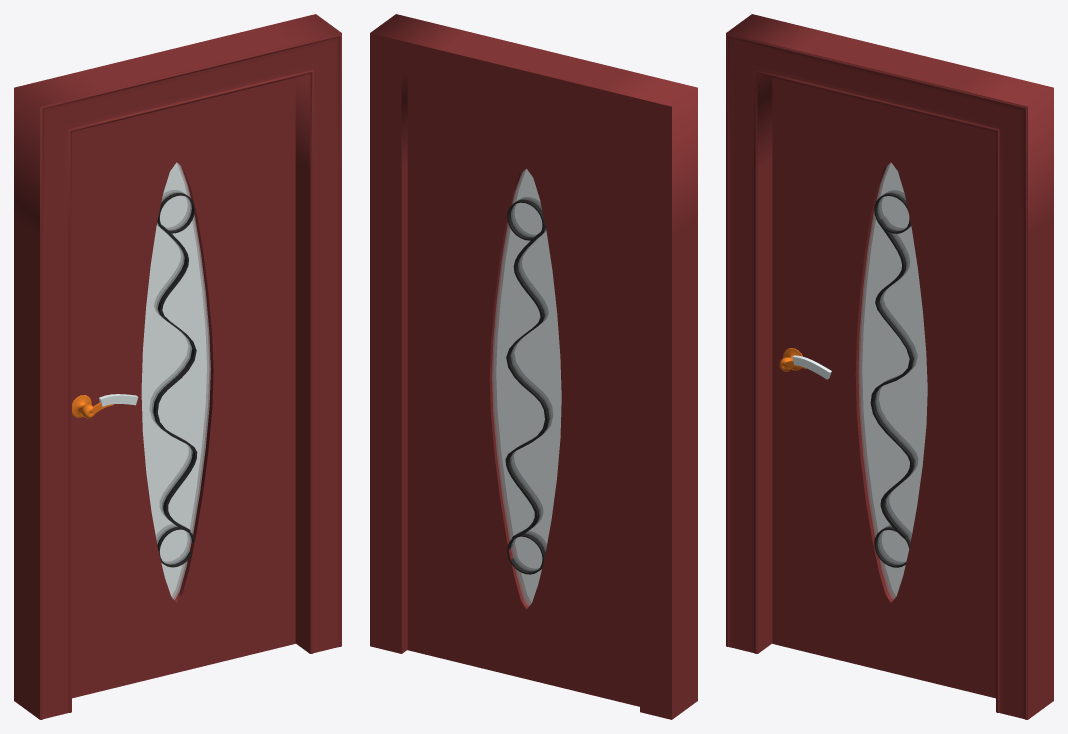
3 renders of one model, left to right at view 1: azimuth 30°, elevation 25°; view 2: azimuth 150°, elevation 25°; view 3: azimuth 330°, elevation 25°, orthographic.
Parts seen in each view (by area): view 1: Rectangle01; view 2: Rectangle01; view 3: Rectangle01.
Boxes of the visible parts, <box> form: Rectangle01: <box>14,14,341,719</box>; Rectangle01: <box>370,14,697,719</box>; Rectangle01: <box>726,14,1053,719</box>.
Bounding box in the file's own units: 29083 × 56452 × 4416.
